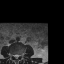CCS_normal: (15, 52, 17, 60)
LFS_normal: (19, 52, 21, 58)
LLS_normal: (17, 52, 19, 59)
RFS_normal: (11, 52, 13, 58)
RLS_normal: (13, 52, 15, 59)
